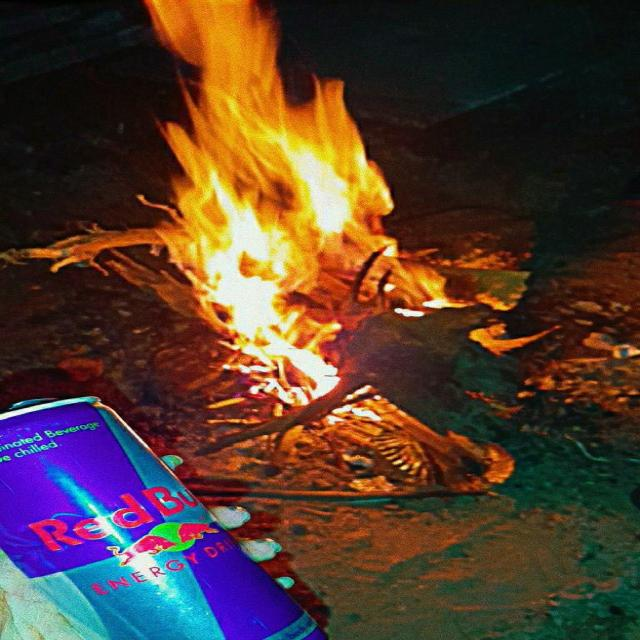fire: (4, 0, 465, 424)
